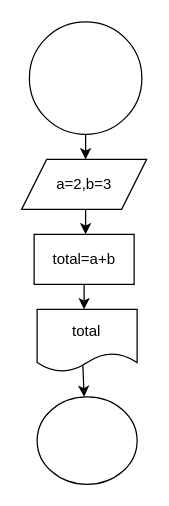
Some shapes in this 169 by 506 pixel diagram are drawn without their labels. The centre of each missing label's shape, as x and y in pixels:
Start: the point at 85,77
stop: the point at 86,440
